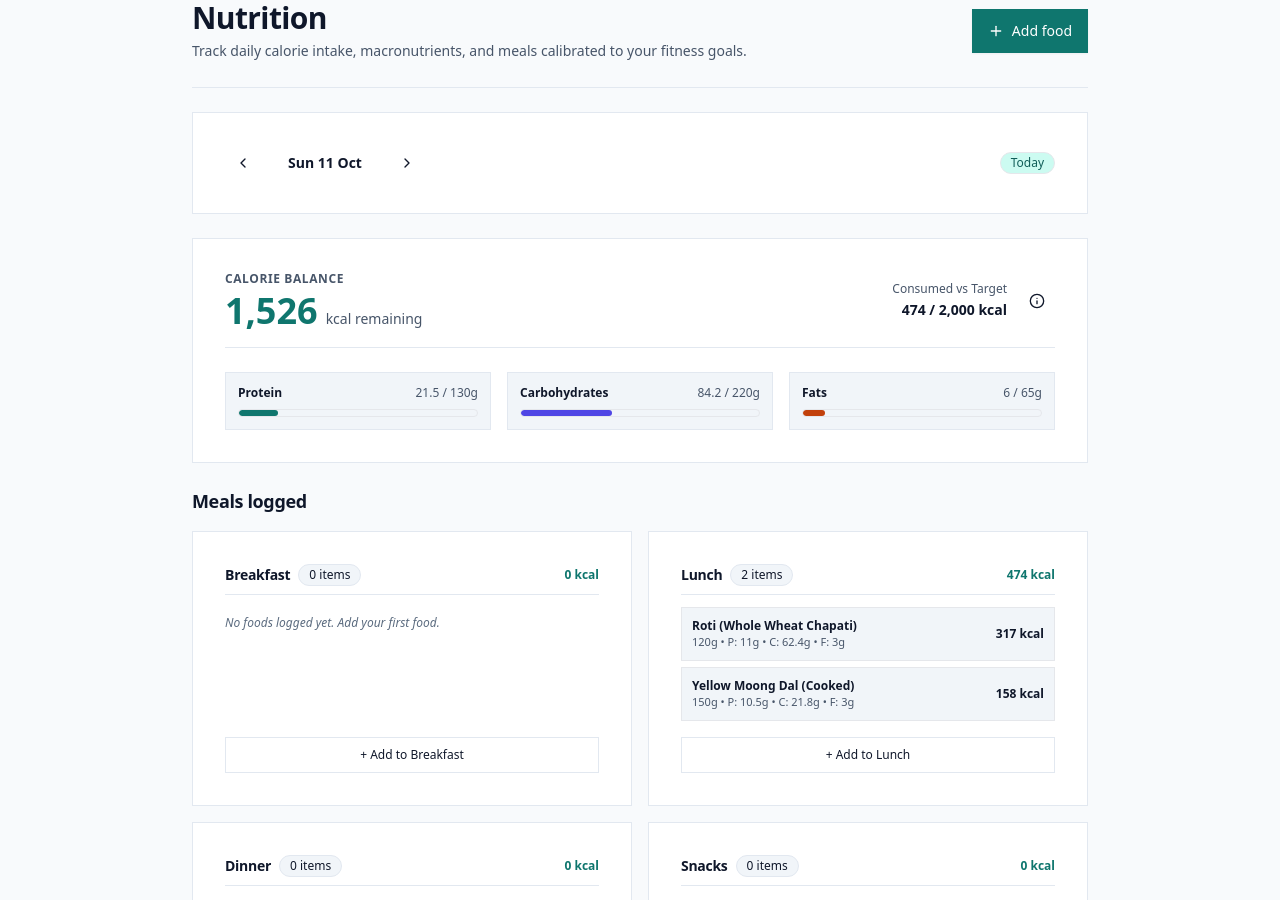
Scenario: Milestone M5 — Nutrition Screen (NutritionOverviewPage) › opens formula explanation modal when tapping info icon
Click the button named "Target calculation explanation": (1037, 301) [1019,283,1055,319]
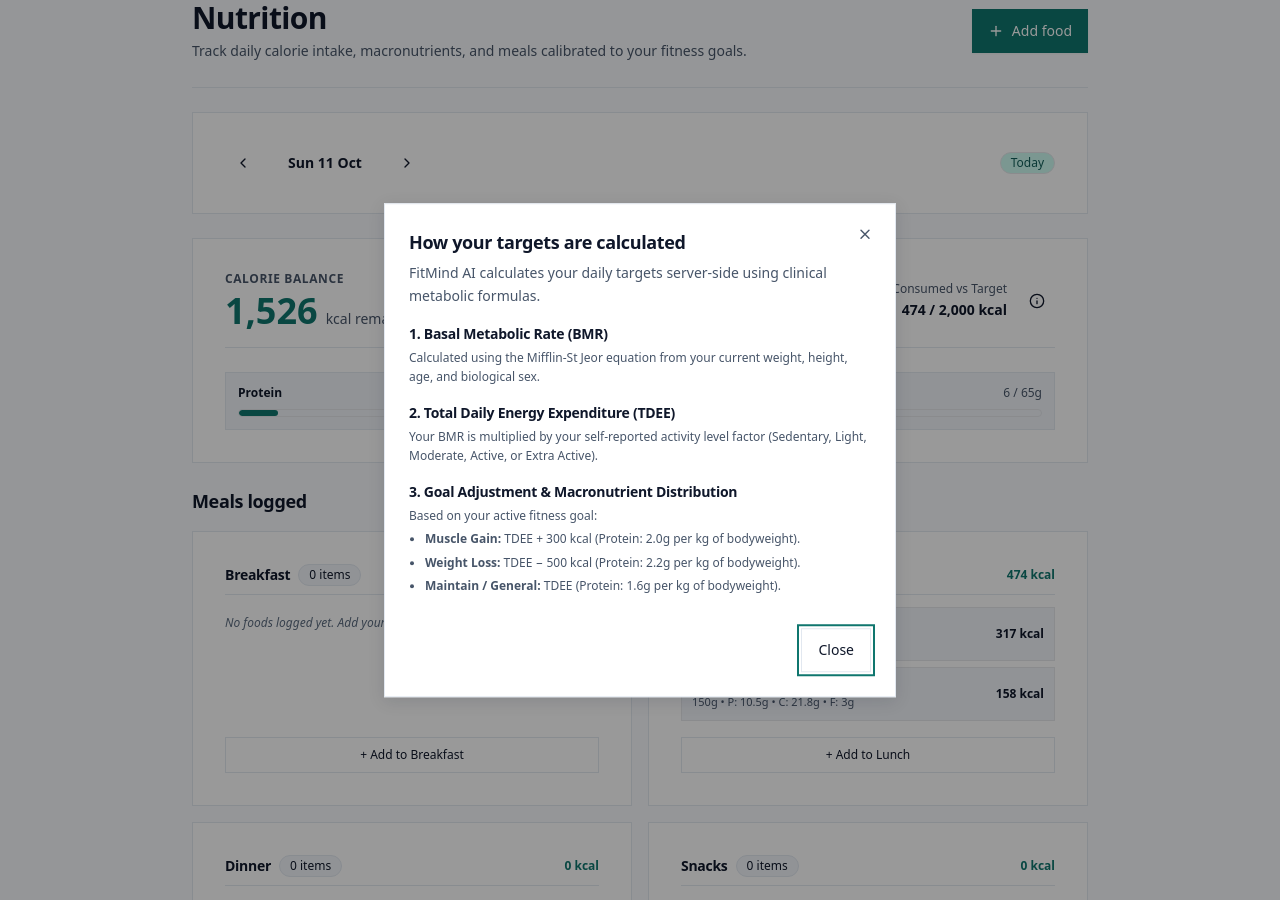
expect the heading "How your targets are calculated" is shown: met, box [409,230,686,254]
expect the text "Mifflin-St Jeor equation" is shown: met, box [409,349,848,385]
